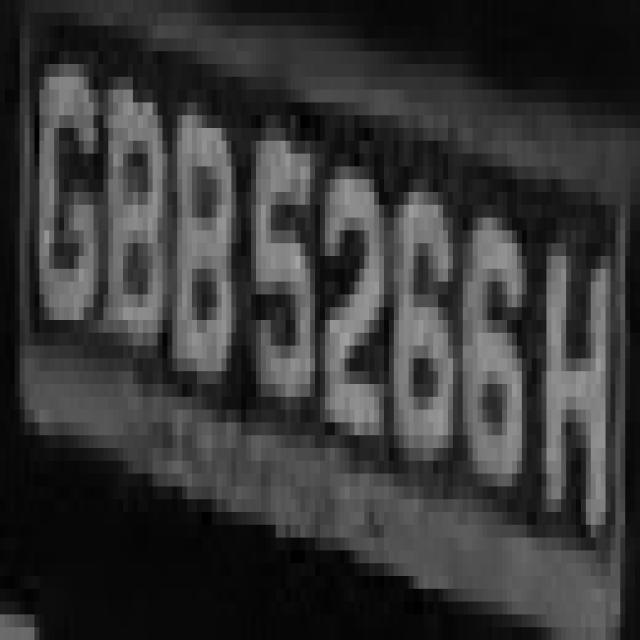2: (320, 115, 399, 474)
5: (251, 90, 320, 435)
6: (463, 141, 522, 563), (379, 179, 453, 486)
B: (162, 64, 236, 397), (114, 64, 172, 410)
G: (30, 26, 104, 371)
H: (532, 218, 620, 576)
